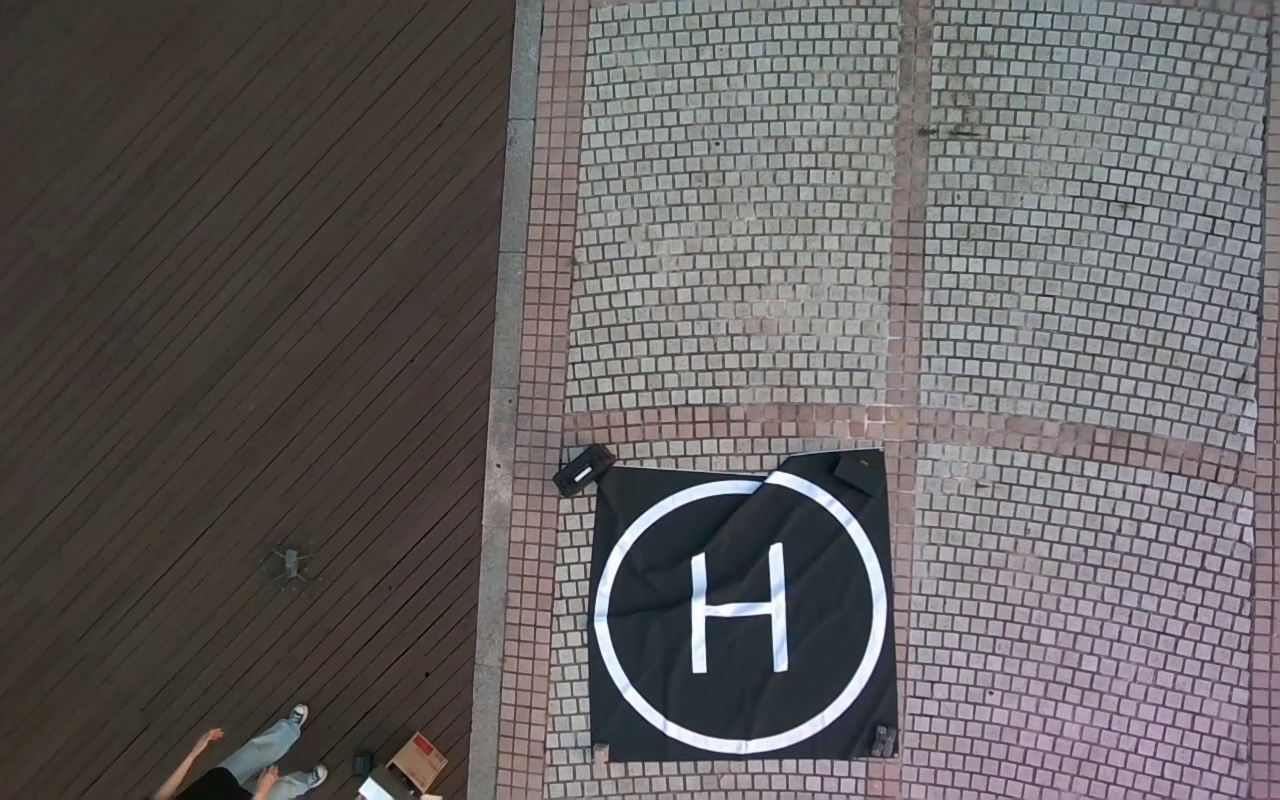H: (687, 542, 789, 675)
